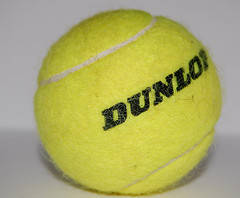tennis ball: (33, 8, 224, 196)
